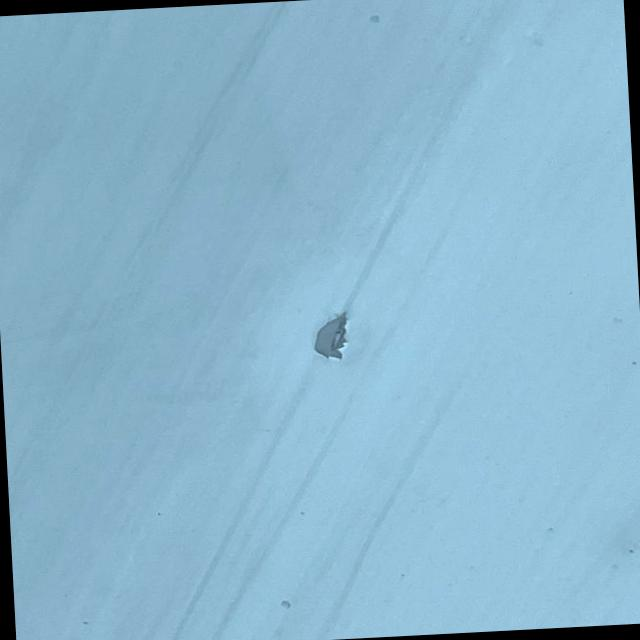crack: (316, 306, 349, 369)
